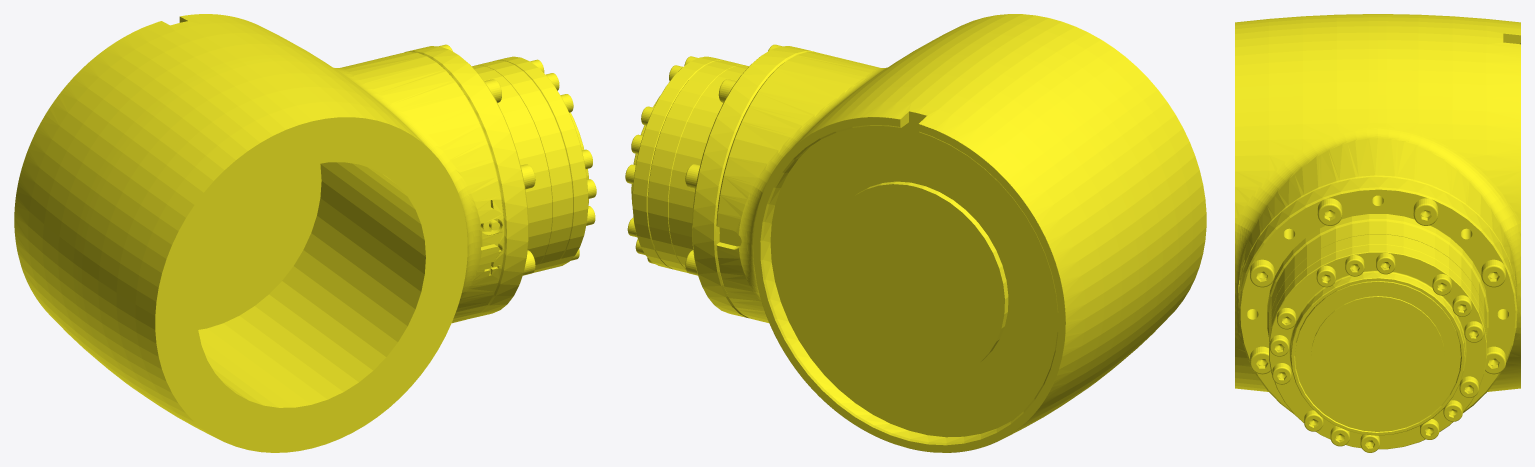
The picture shows the model from 3 angles, left to right: view 1: azimuth 30°, elevation 25°; view 2: azimuth 150°, elevation 25°; view 3: azimuth 270°, elevation 25°; orthographic projection.
Parts seen in each view (by area): view 1: Link5; view 2: Link5; view 3: Link5.
Boxes of the visible parts, x1,y1,x2,y2 form: Link5: (14, 14, 596, 452); Link5: (625, 14, 1206, 452); Link5: (1235, 14, 1520, 452).
Bounding box in the file's own units: 0.1562 × 0.081 × 0.1085.
